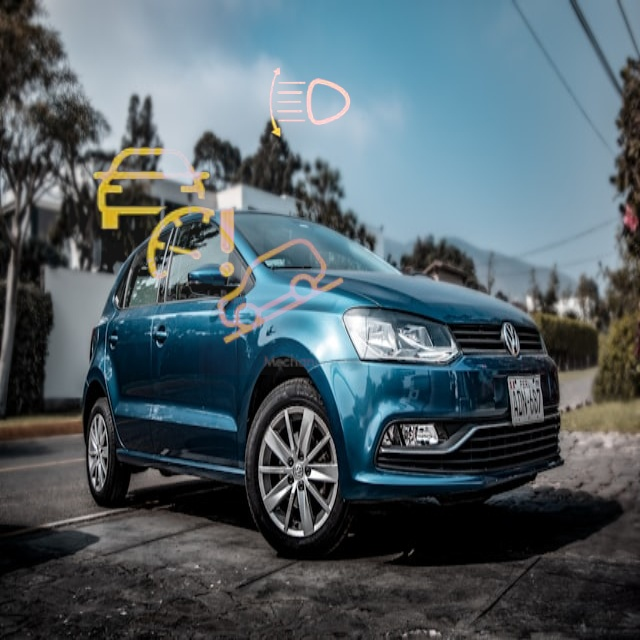symbol: (68, 120, 259, 311), (199, 211, 363, 375), (248, 38, 373, 163)
